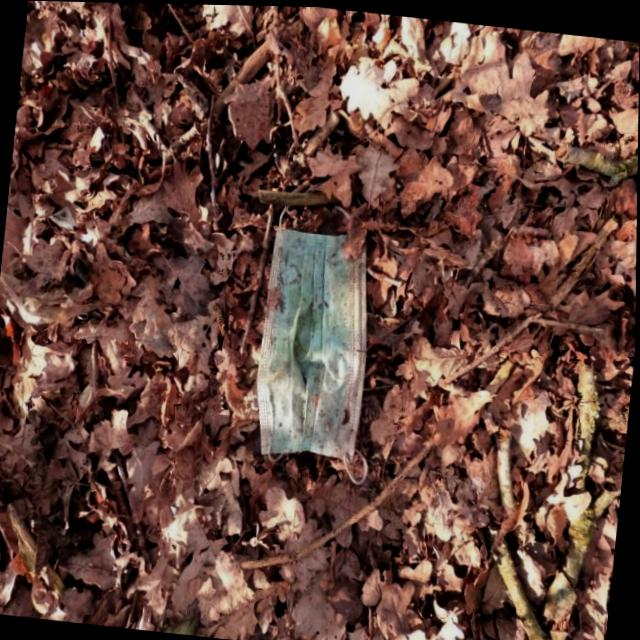Mask: (244, 203, 403, 482)
